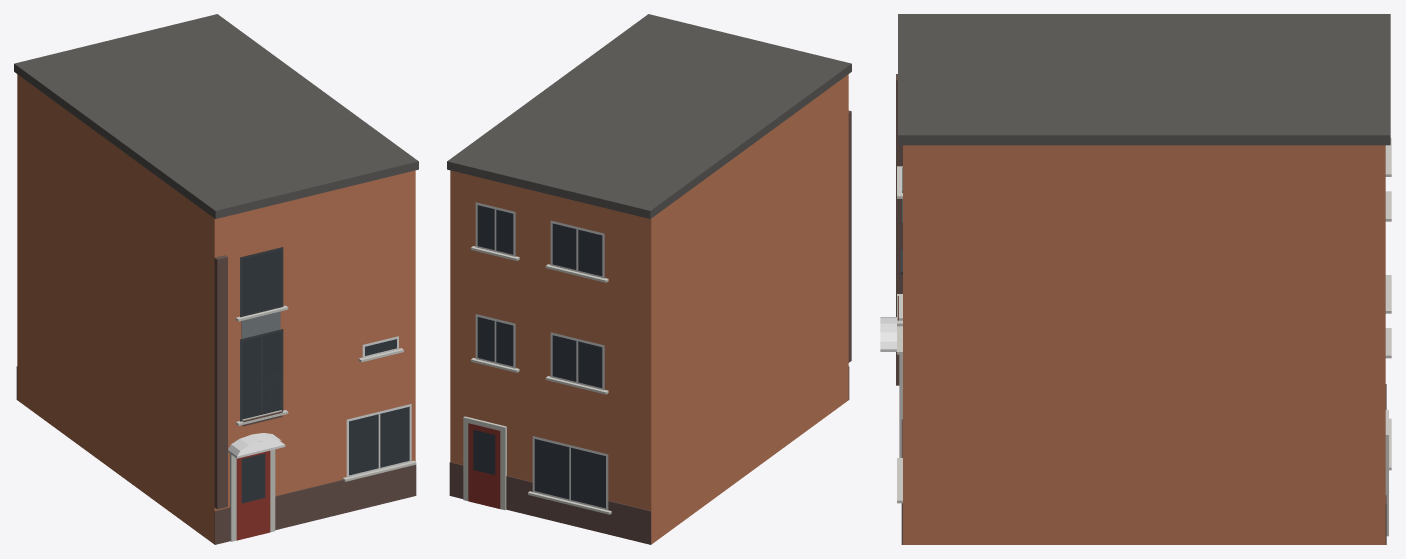
The model's file is nw-ao-slot__orange__3__flat__long__solid__f1d0.glb.
3 renders of one model, left to right at view 1: azimuth 30°, elevation 25°; view 2: azimuth 150°, elevation 25°; view 3: azimuth 270°, elevation 25°, orthographic. The views are drawn at different scales.
Visible parts, largest first — view 1: nw-ao-slot__orange__3__flat__long__solid__f1d0; view 2: nw-ao-slot__orange__3__flat__long__solid__f1d0; view 3: nw-ao-slot__orange__3__flat__long__solid__f1d0.
Boxes of the visible parts, x1,y1,x2,y2 form: nw-ao-slot__orange__3__flat__long__solid__f1d0: (14,14,418,544); nw-ao-slot__orange__3__flat__long__solid__f1d0: (447,14,851,544); nw-ao-slot__orange__3__flat__long__solid__f1d0: (880,14,1391,544).
Bounding box in the file's own units: 5.71 × 9 × 10.16.
